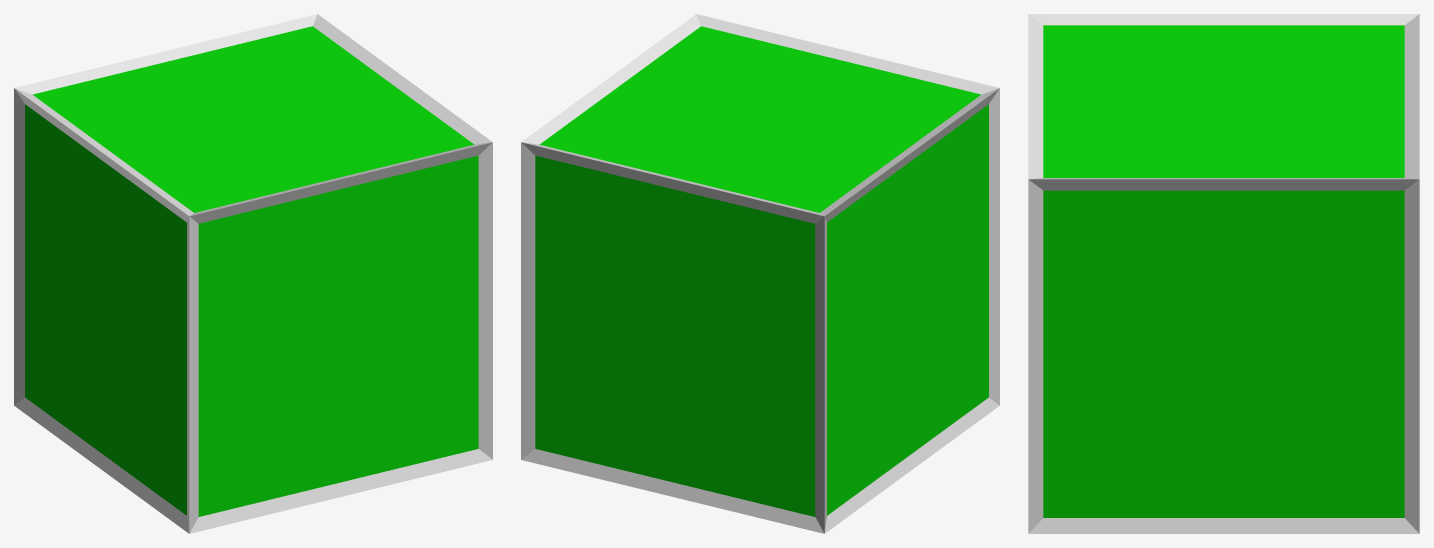
The model's file is BoundingBoxGreen.glb.
3 views of the same model, side by side, from view 1: azimuth 30°, elevation 25°; view 2: azimuth 150°, elevation 25°; view 3: azimuth 270°, elevation 25° (orthographic). The views are drawn at different scales.
Parts seen in each view (by area): view 1: Cube.001; view 2: Cube.001; view 3: Cube.001.
Boxes of the visible parts, left/top/right/bottom form: Cube.001: left=14, top=14, right=492, bottom=533; Cube.001: left=521, top=14, right=999, bottom=533; Cube.001: left=1028, top=14, right=1419, bottom=533.
Size of the model in its own units: 2.06 by 2.06 by 2.06.
